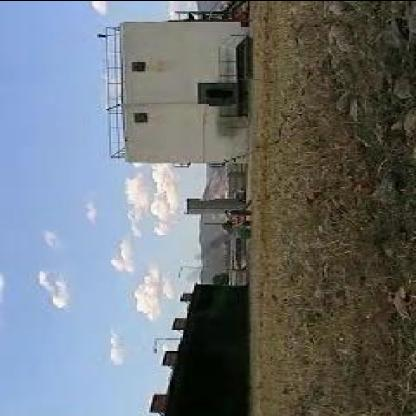-: (202, 234, 230, 254)
foggia-v2-map80-epoch100 - v1 4323: (230, 211, 248, 227)
